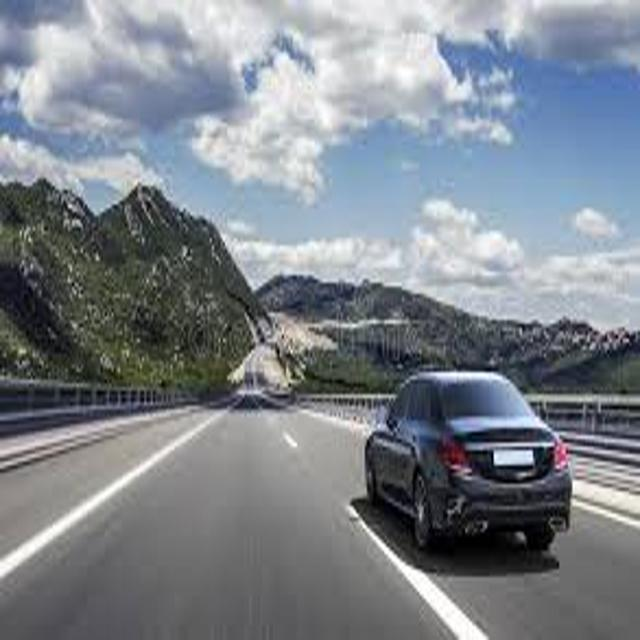car: (365, 372, 571, 549)
